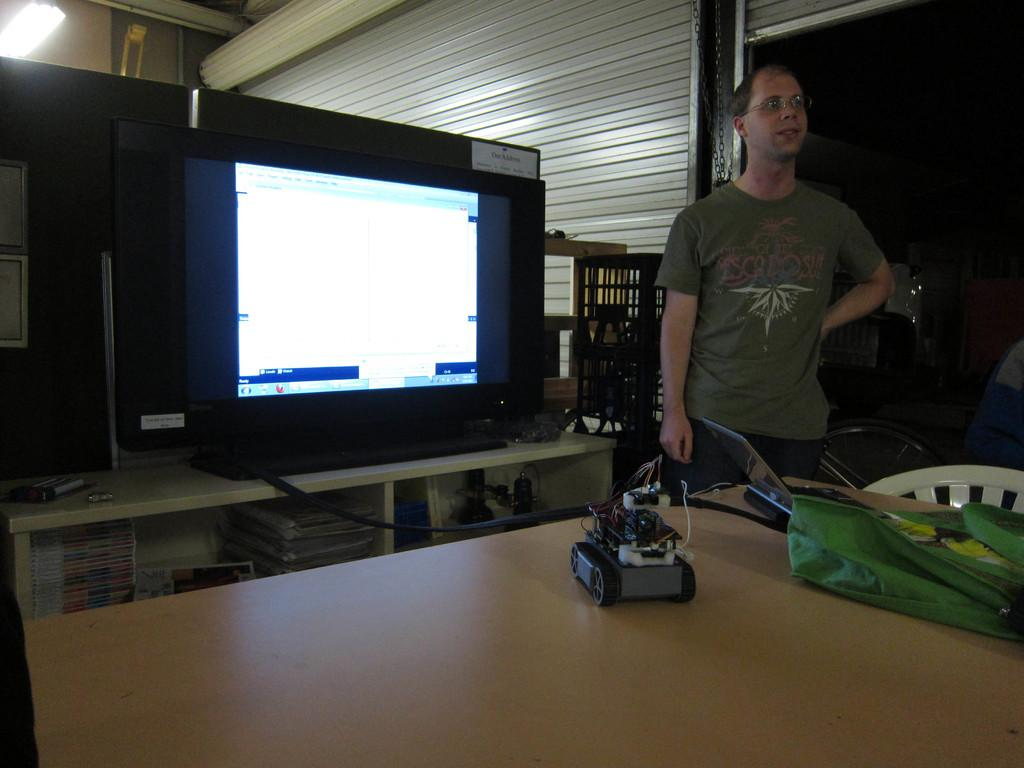Computer-monitor: (177, 134, 546, 447)
